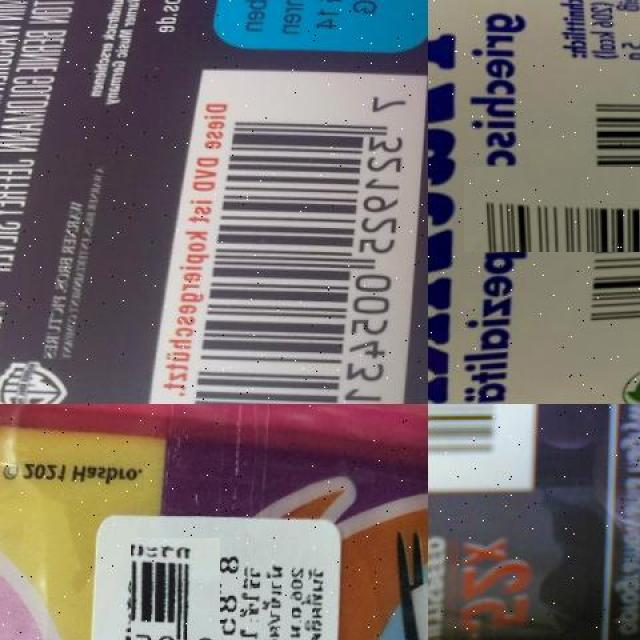Barcode: (141, 69, 423, 404), (509, 122, 640, 298), (428, 404, 543, 493), (124, 545, 226, 640)
